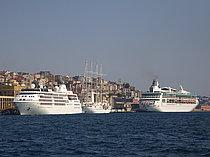Ship: (11, 77, 88, 122), (139, 77, 206, 120)
